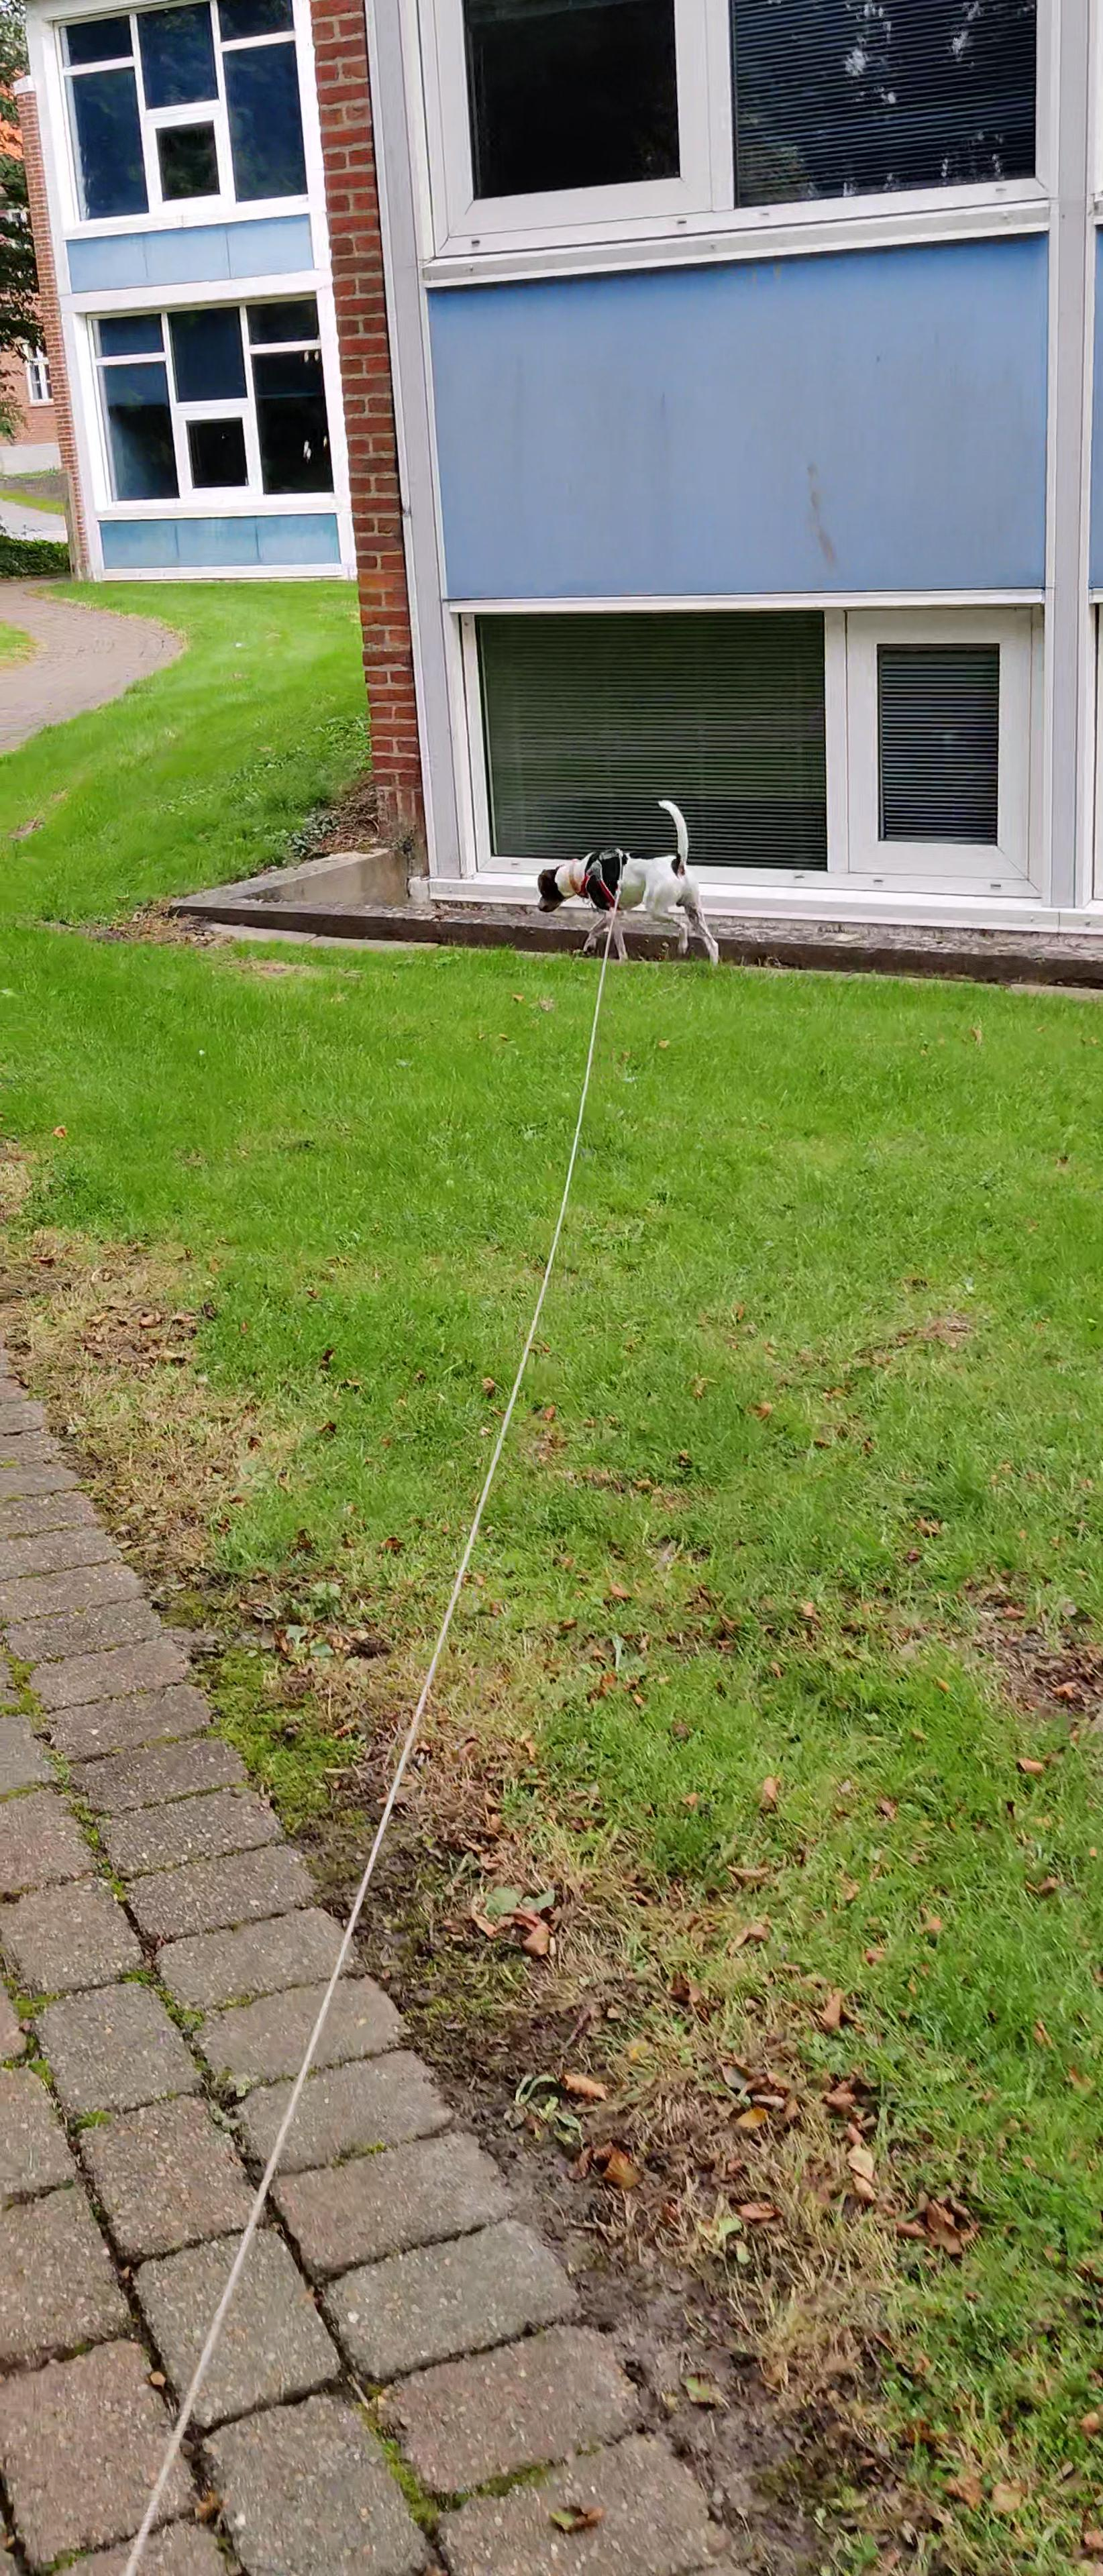Dog: (531, 785, 731, 963)
